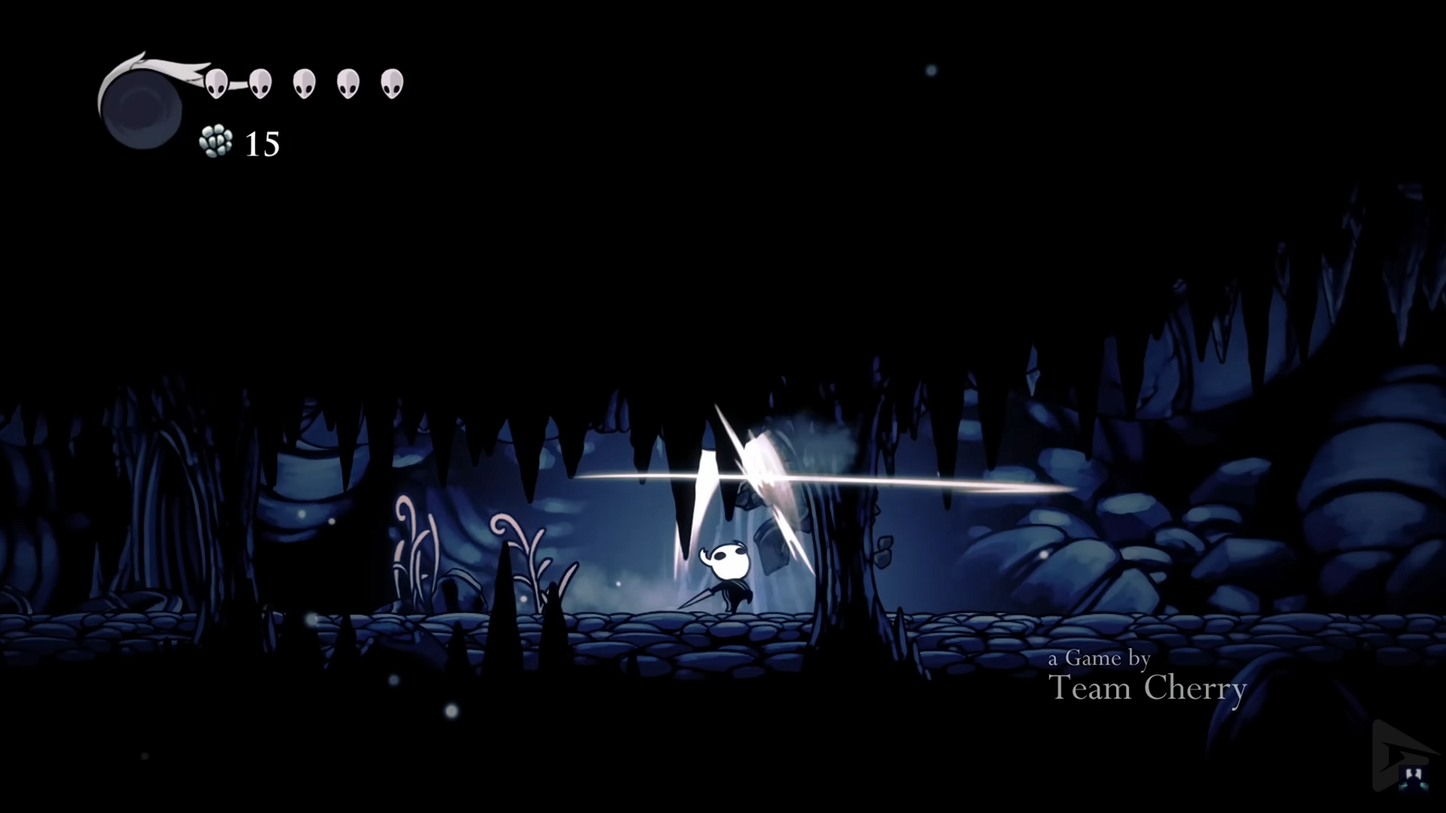HK: (694, 535, 759, 617)
